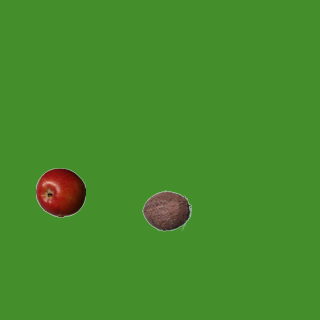Apple Braeburn: (35, 167, 85, 217)
Cocos: (141, 185, 191, 235)
